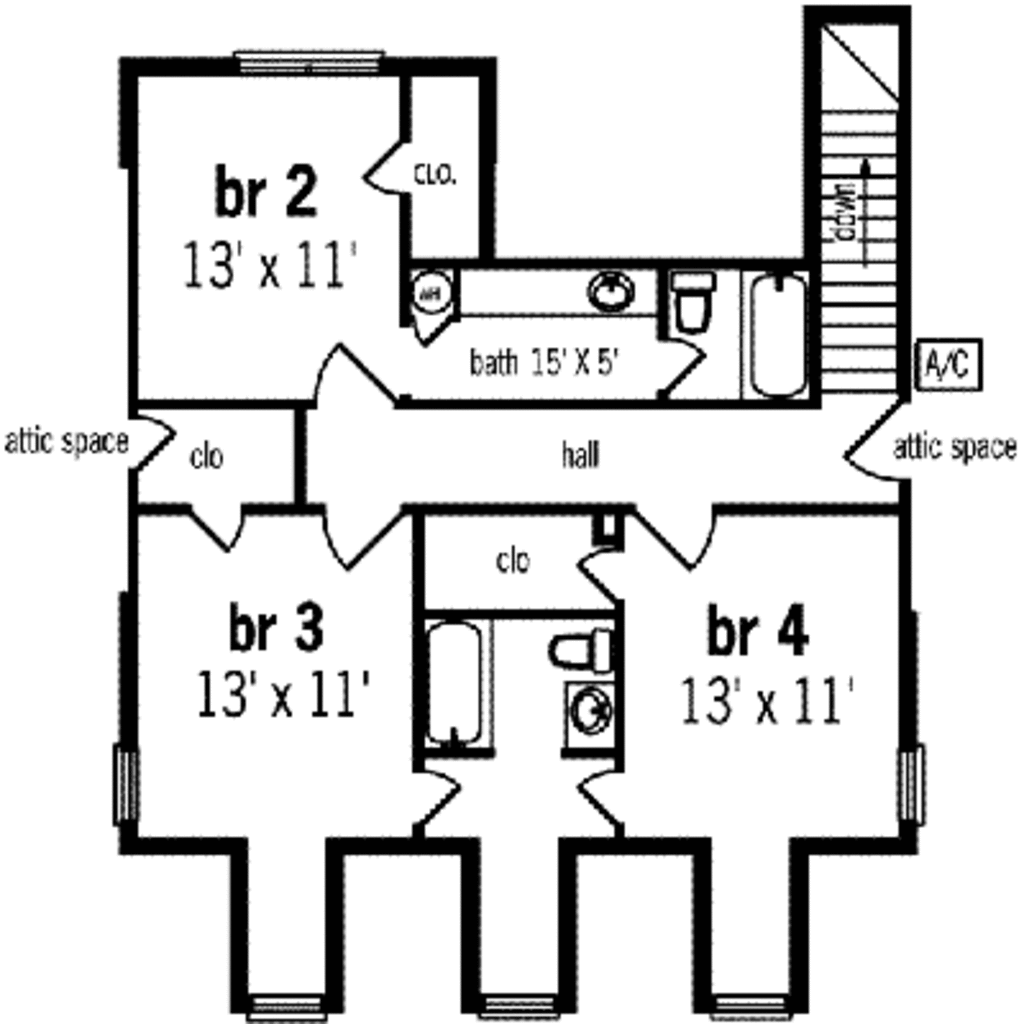door: (285, 335, 417, 414), (625, 494, 734, 580), (837, 394, 932, 484), (309, 499, 413, 580), (352, 124, 436, 211), (556, 540, 632, 610), (566, 764, 636, 834), (190, 497, 264, 557), (109, 403, 172, 472), (656, 332, 705, 408), (412, 770, 464, 830)
large_sink: (540, 622, 617, 672), (663, 267, 712, 338)
small_sink: (555, 259, 656, 321), (553, 676, 621, 748)
stairs: (815, 10, 922, 392)
tub: (410, 610, 498, 751), (731, 270, 817, 405)
window: (101, 741, 171, 830), (878, 738, 942, 832), (236, 45, 390, 81), (231, 987, 357, 1024), (478, 981, 571, 1022), (704, 989, 795, 1024)
